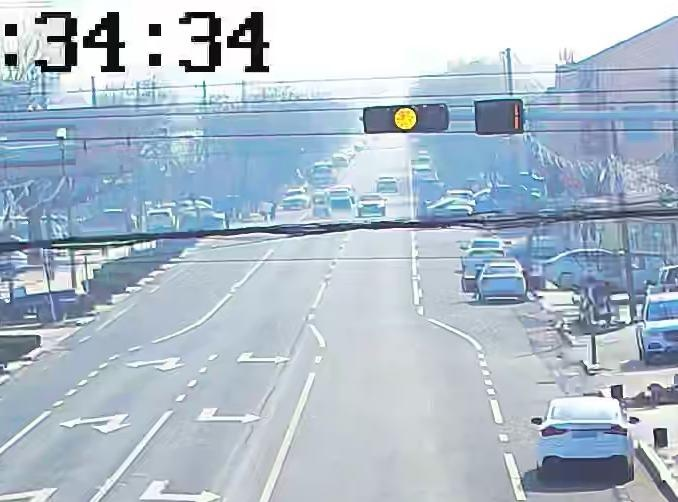yellow: (391, 107, 421, 131)
yellowtime: (506, 98, 525, 131)
